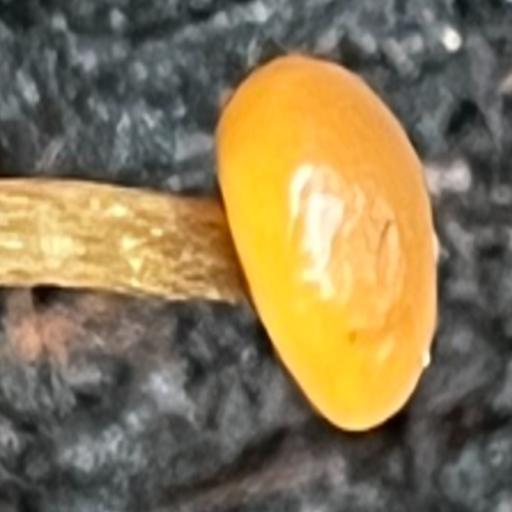mushroom: (166, 51, 448, 435)
